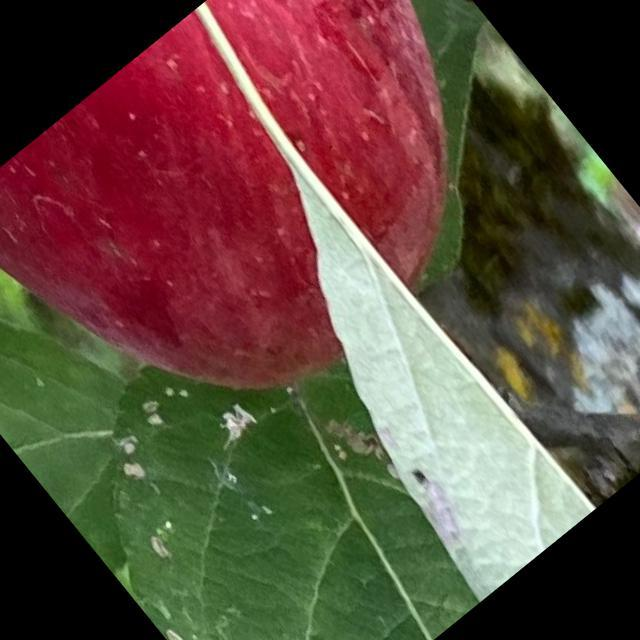100-_ripeness: (0, 0, 581, 497)
